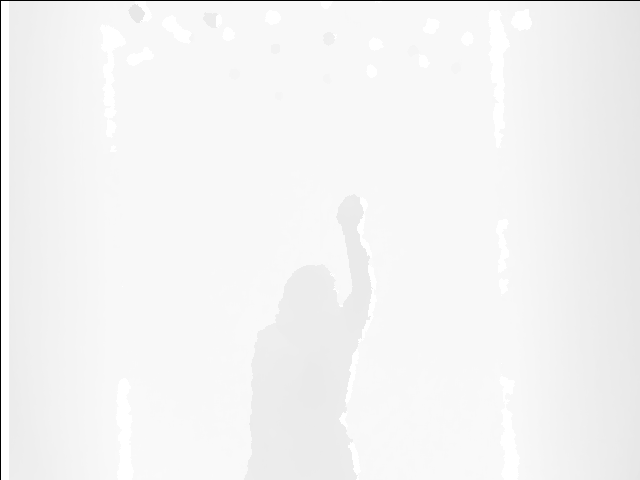hand: (337, 191, 364, 233)
